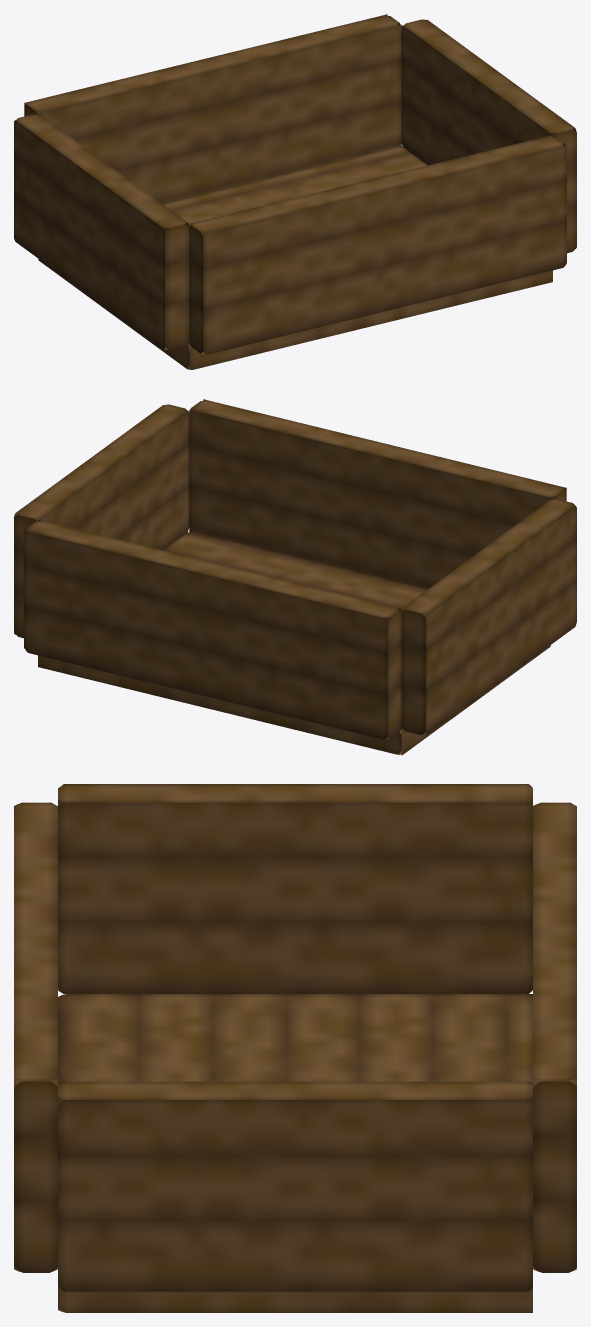
File: boat_spruce.fbx
3 views of the same model, one above another, from view 1: azimuth 30°, elevation 25°; view 2: azimuth 150°, elevation 25°; view 3: azimuth 270°, elevation 25° (orthographic). The views are drawn at different scales.
Parts seen in each view (by area): view 1: Cube.082; view 2: Cube.082; view 3: Cube.082.
Boxes of the visible parts, x1=… form: Cube.082: x1=14, y1=14, x2=576, y2=369; Cube.082: x1=14, y1=399, x2=576, y2=755; Cube.082: x1=14, y1=784, x2=576, y2=1312.
Bounding box in the file's own units: 283 × 96.64 × 213.
